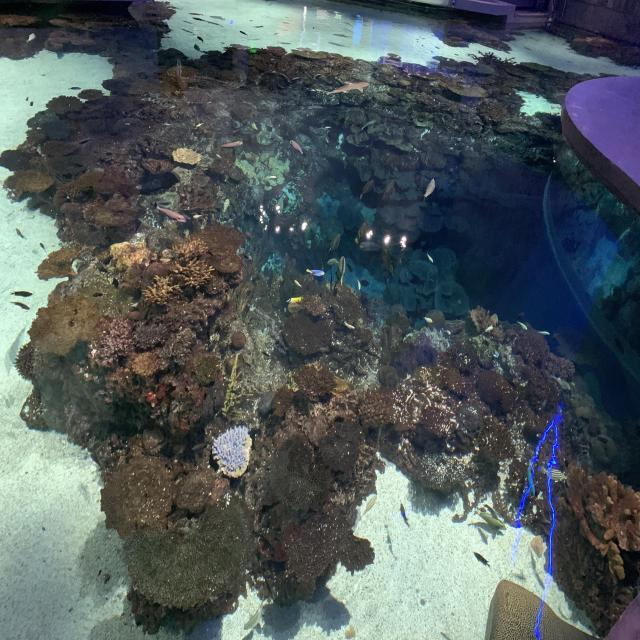fish: (154, 202, 188, 225), (475, 512, 507, 533), (360, 492, 379, 519), (357, 177, 378, 201), (542, 466, 569, 484), (473, 548, 493, 570), (422, 174, 438, 201), (527, 459, 539, 494), (381, 177, 397, 203), (552, 372, 572, 392), (398, 501, 411, 528), (337, 254, 347, 285), (289, 137, 305, 156), (382, 250, 394, 274), (10, 287, 33, 299), (328, 231, 341, 252), (10, 300, 32, 312), (219, 140, 245, 150), (386, 533, 396, 558), (306, 266, 325, 279), (286, 294, 305, 306), (358, 220, 369, 240), (530, 548, 538, 575), (513, 570, 530, 582), (223, 196, 233, 216), (484, 504, 498, 518), (515, 319, 529, 333), (536, 326, 552, 338), (535, 573, 546, 589), (326, 256, 340, 268), (14, 228, 26, 241), (343, 319, 356, 331), (484, 323, 496, 335), (422, 314, 434, 326), (38, 241, 48, 254), (293, 278, 303, 289), (195, 120, 205, 130), (426, 253, 435, 264), (443, 328, 453, 337), (193, 213, 204, 221), (356, 278, 362, 292), (267, 174, 278, 181), (252, 122, 260, 131), (215, 152, 222, 159)
shark: (325, 80, 368, 97)
